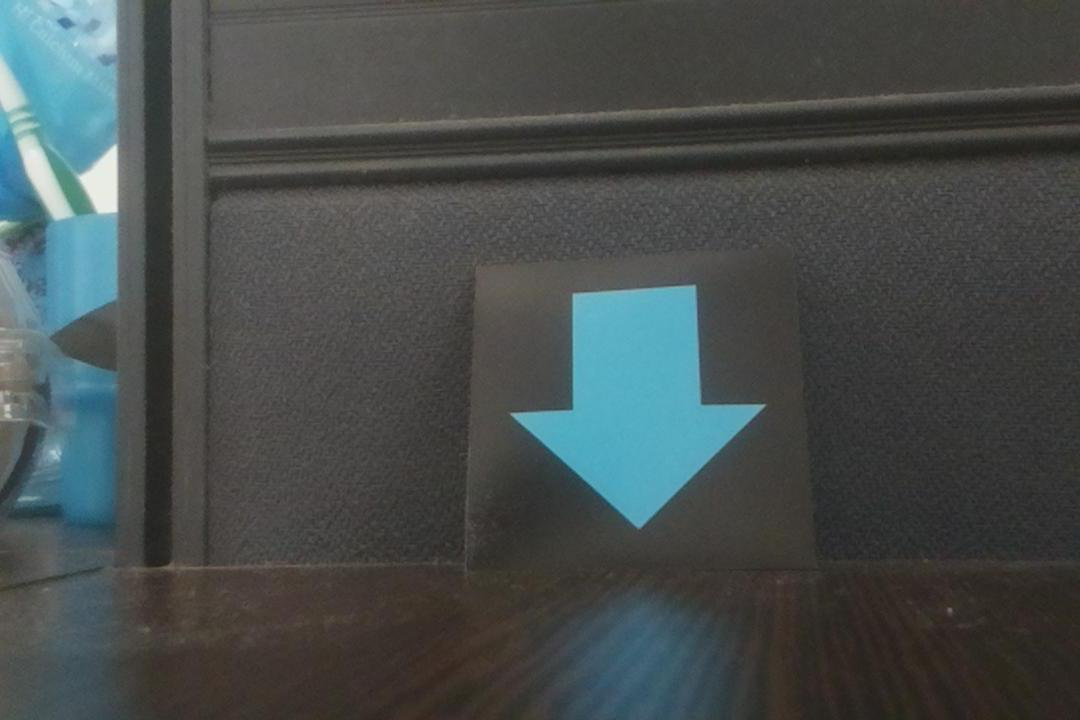down: (463, 248, 821, 571)
